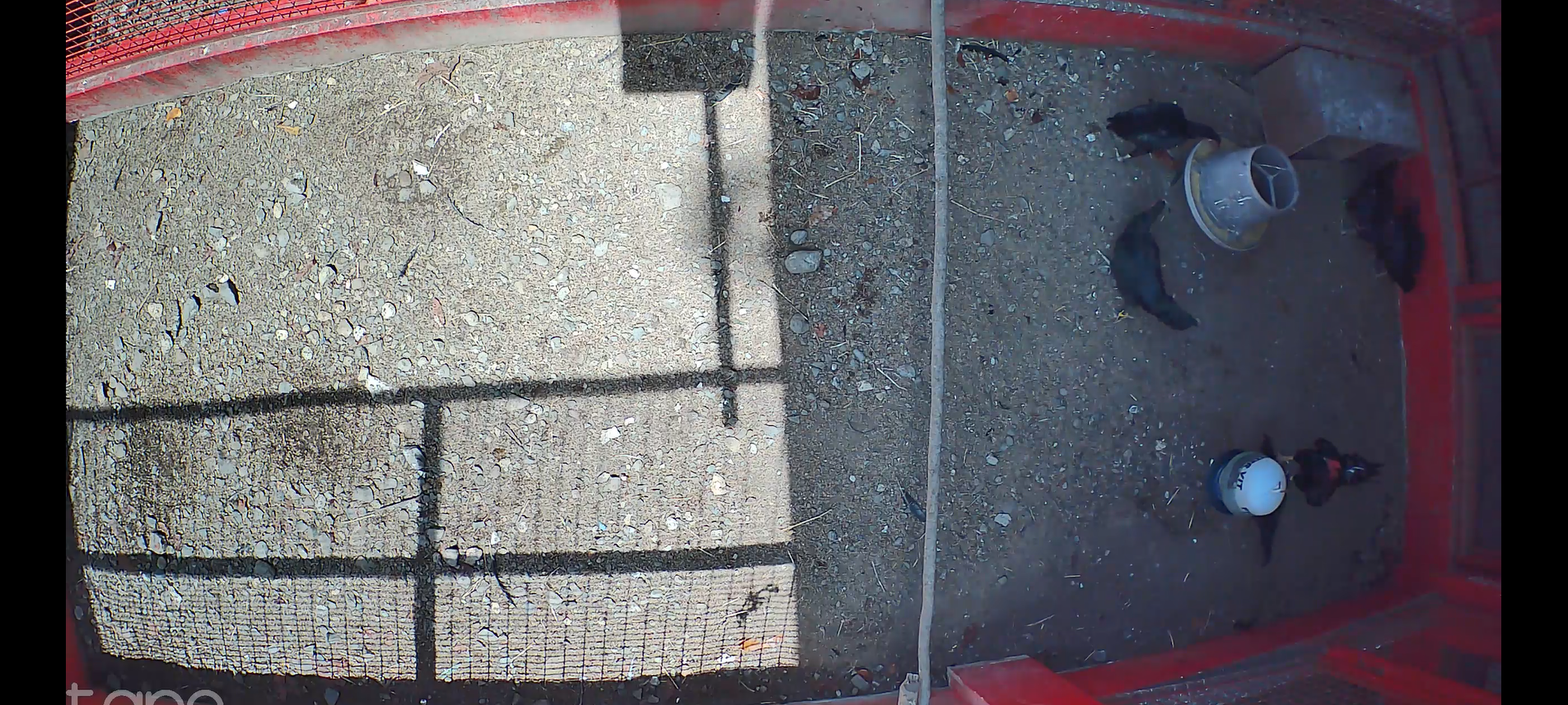Chicken: (1096, 199, 1203, 332), (1099, 99, 1228, 165), (1333, 156, 1403, 258), (1373, 190, 1424, 297), (1251, 432, 1287, 569)
Drinker: (1206, 448, 1287, 518)
Feeder: (1182, 133, 1299, 251)
Leg_Band_Yellow: (1113, 309, 1129, 320)
Rooster: (1277, 439, 1388, 513)
